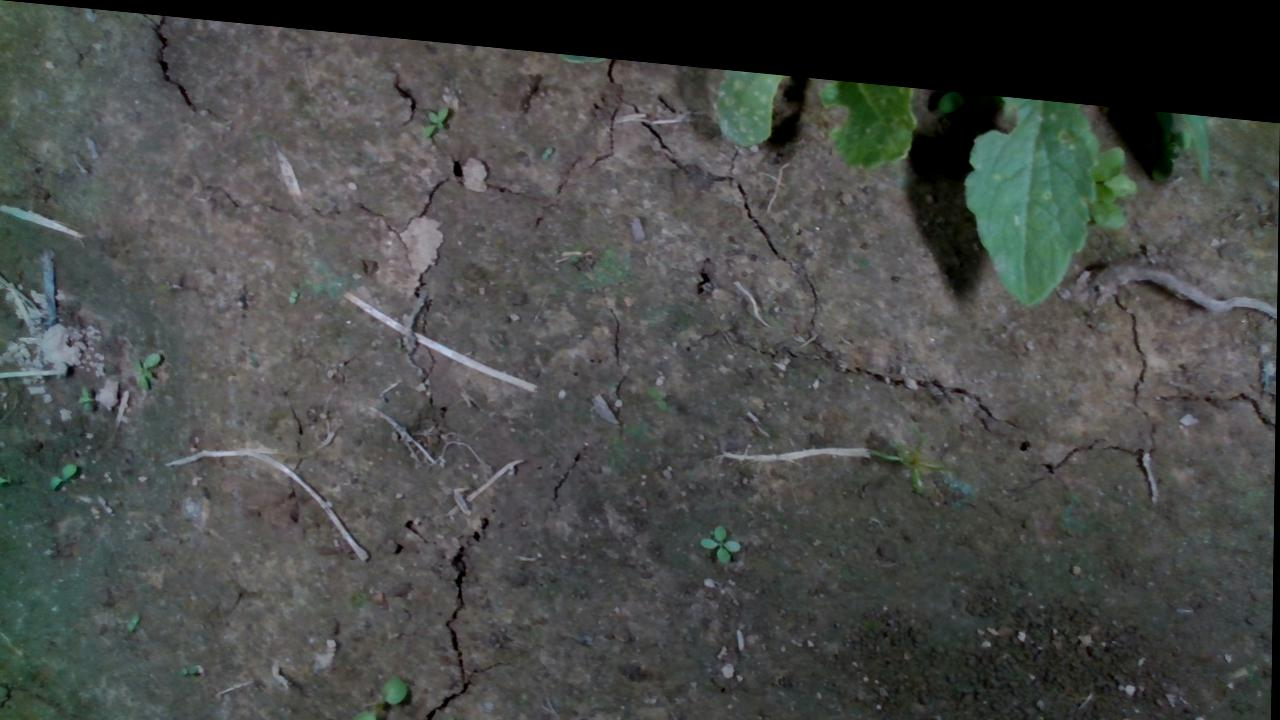weed: (347, 660, 410, 719), (699, 504, 743, 550), (131, 344, 163, 388), (48, 457, 80, 490), (420, 95, 448, 130), (78, 382, 97, 403), (445, 704, 460, 719)
